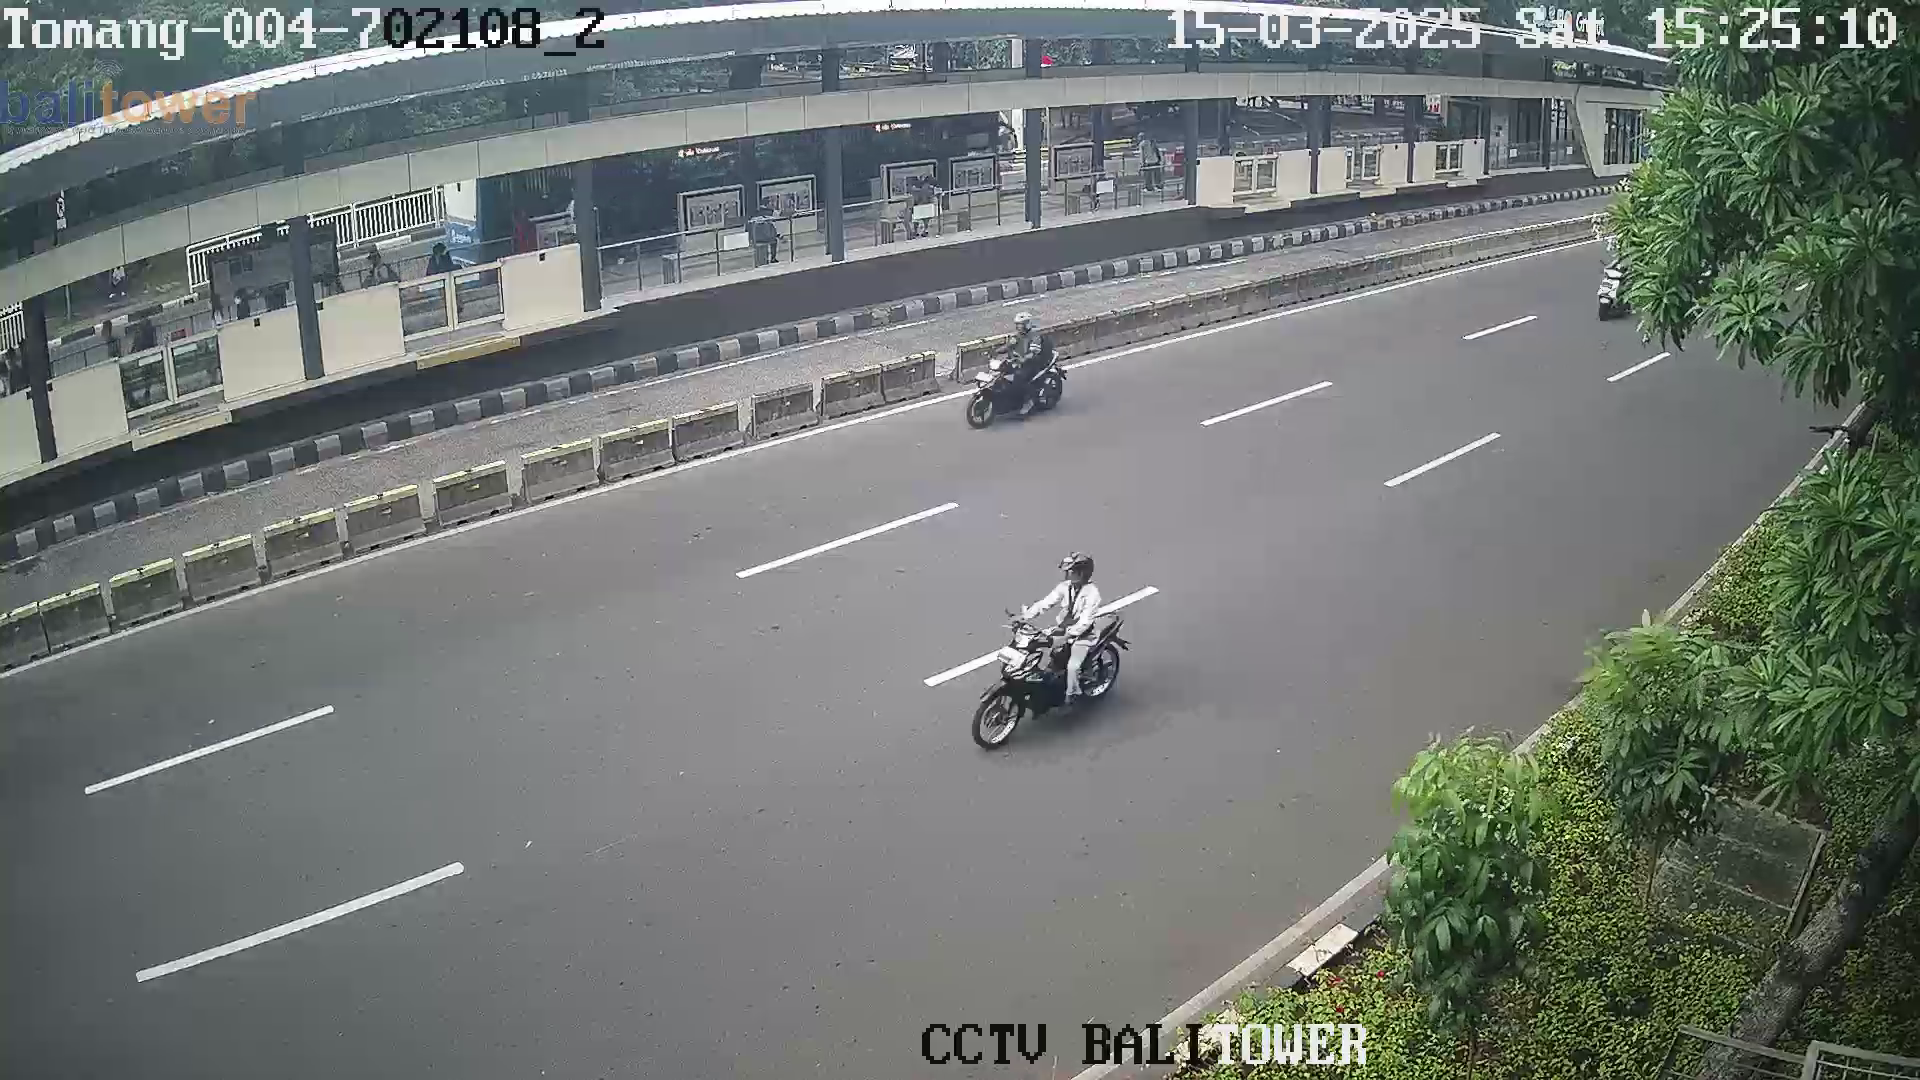half-face helmet: (1061, 541, 1098, 594), (1012, 310, 1037, 335)
